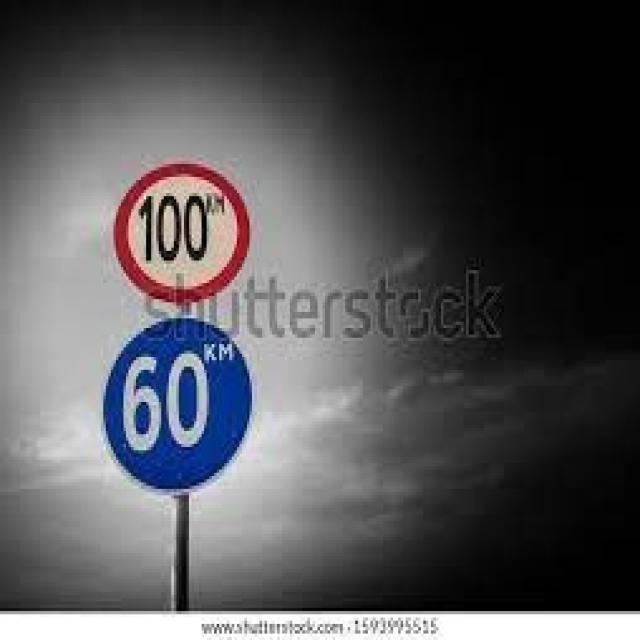speed_limit_100: (107, 160, 247, 308)
